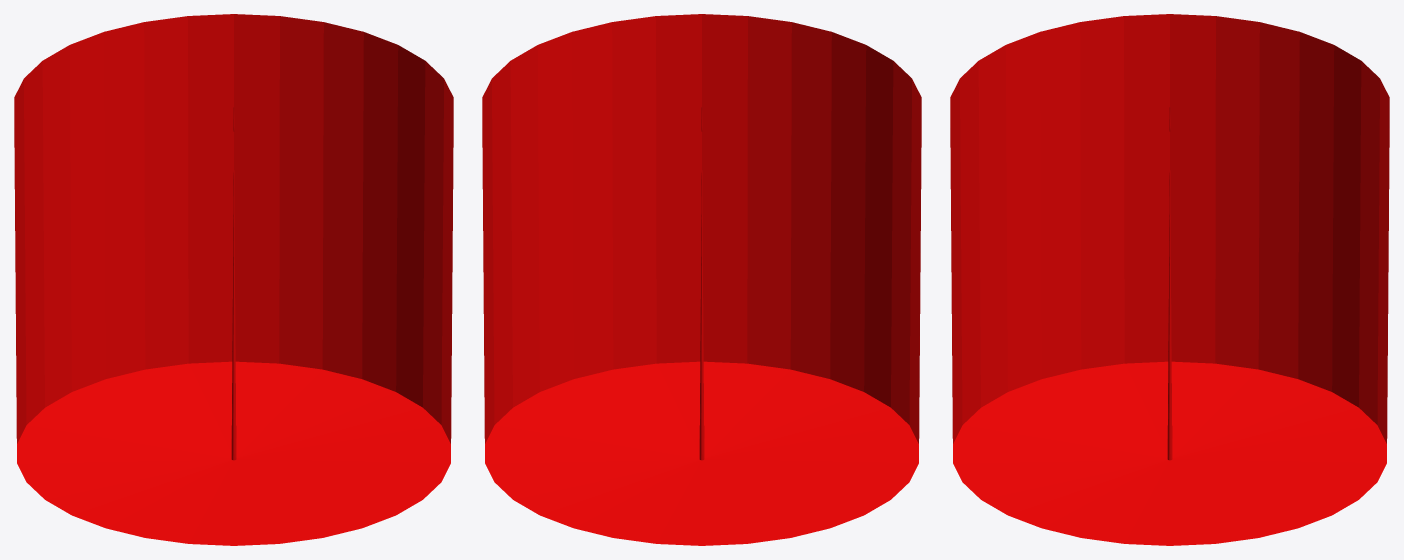
3 views of the same model, side by side, from view 1: azimuth 30°, elevation 25°; view 2: azimuth 150°, elevation 25°; view 3: azimuth 270°, elevation 25° (orthographic).
Parts seen in each view (by area): view 1: algeomath; view 2: algeomath; view 3: algeomath.
Boxes of the visible parts, left/top/right/bottom form: algeomath: left=14, top=14, right=453, bottom=545; algeomath: left=482, top=14, right=921, bottom=545; algeomath: left=950, top=14, right=1389, bottom=545.
Size of the model in its own units: 8.07 by 7.1 by 8.03.
Materials: 1 (1 with a texture image).
